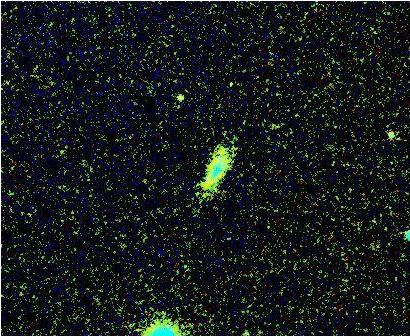star: (164, 82, 194, 112)
